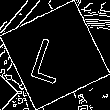L_N: (32, 26, 78, 84)
